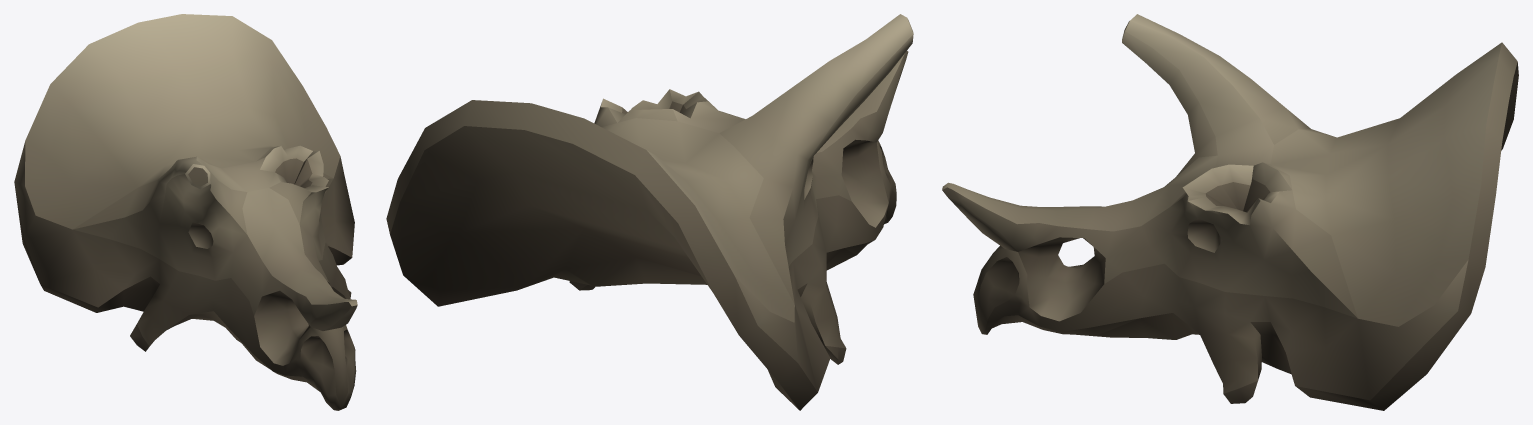
Rendered from Giant_Skull_2C.fbx.
3 views of the same model, side by side, from view 1: azimuth 30°, elevation 25°; view 2: azimuth 150°, elevation 25°; view 3: azimuth 270°, elevation 25° (orthographic). The views are drawn at different scales.
Parts seen in each view (by area): view 1: Giant_Skull_2C; view 2: Giant_Skull_2C; view 3: Giant_Skull_2C.
Part boxes in pixels (left/top/right/bottom): Giant_Skull_2C: left=14, top=14, right=357, bottom=410; Giant_Skull_2C: left=386, top=14, right=913, bottom=410; Giant_Skull_2C: left=942, top=14, right=1518, bottom=410.
Size of the model in its own units: 2.26 by 1.65 by 3.03.
